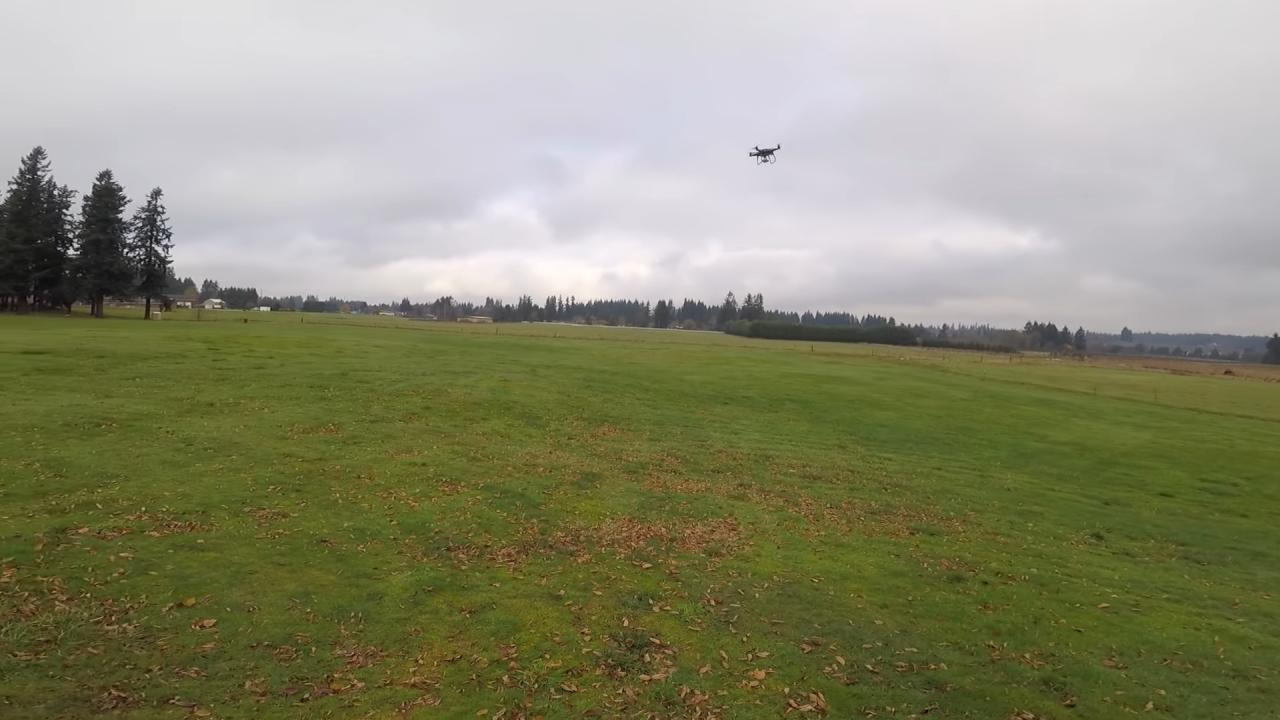Drone: (741, 133, 789, 176)
